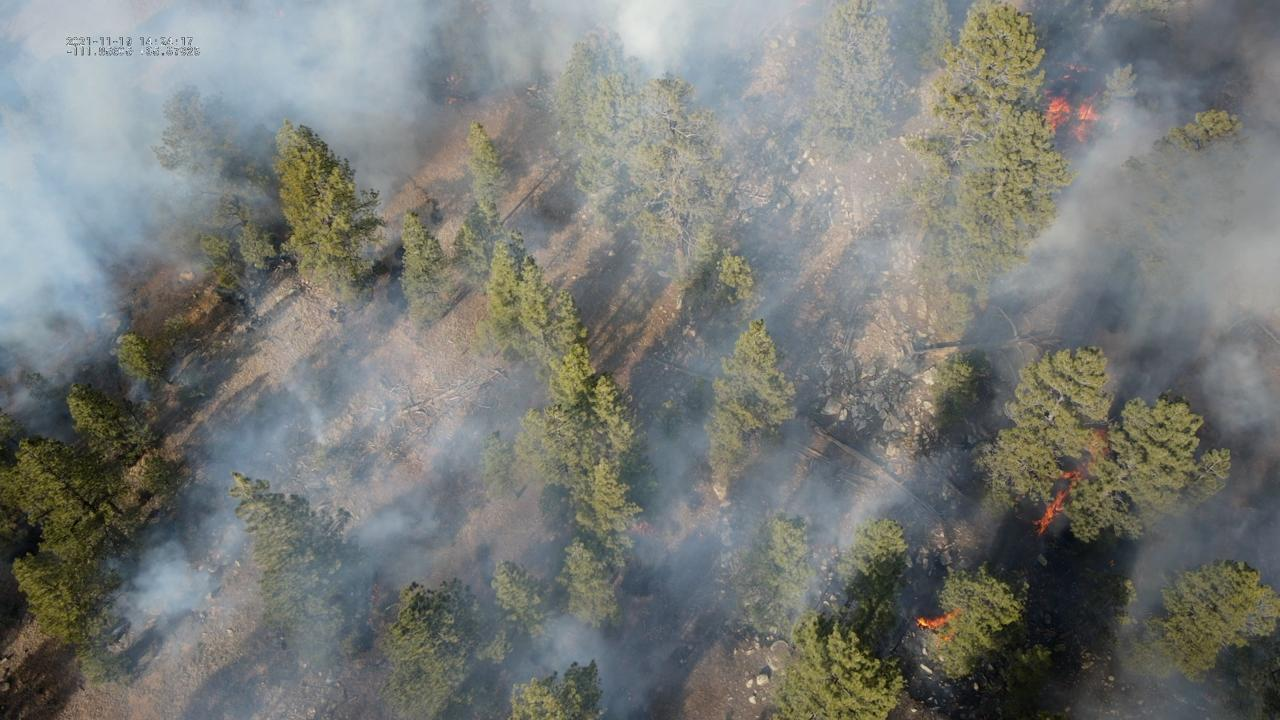fire: (1045, 425, 1126, 542), (1051, 92, 1114, 136), (926, 609, 971, 638), (644, 520, 669, 544), (380, 283, 395, 299), (381, 592, 393, 604), (1068, 63, 1087, 69), (1123, 563, 1128, 569)
smoke: (0, 0, 1280, 720), (1118, 504, 1280, 720)
